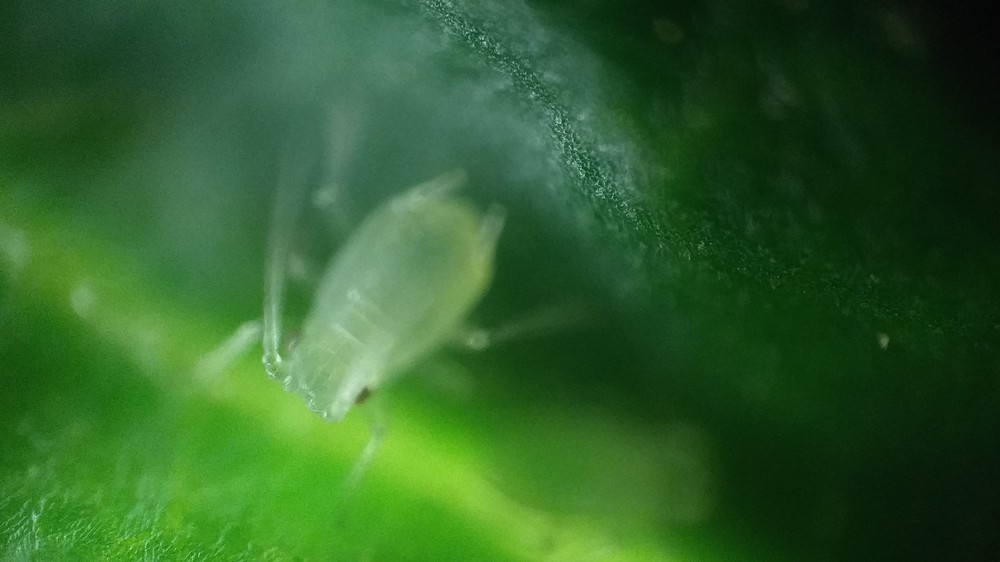Pulgon: (181, 121, 570, 498)
